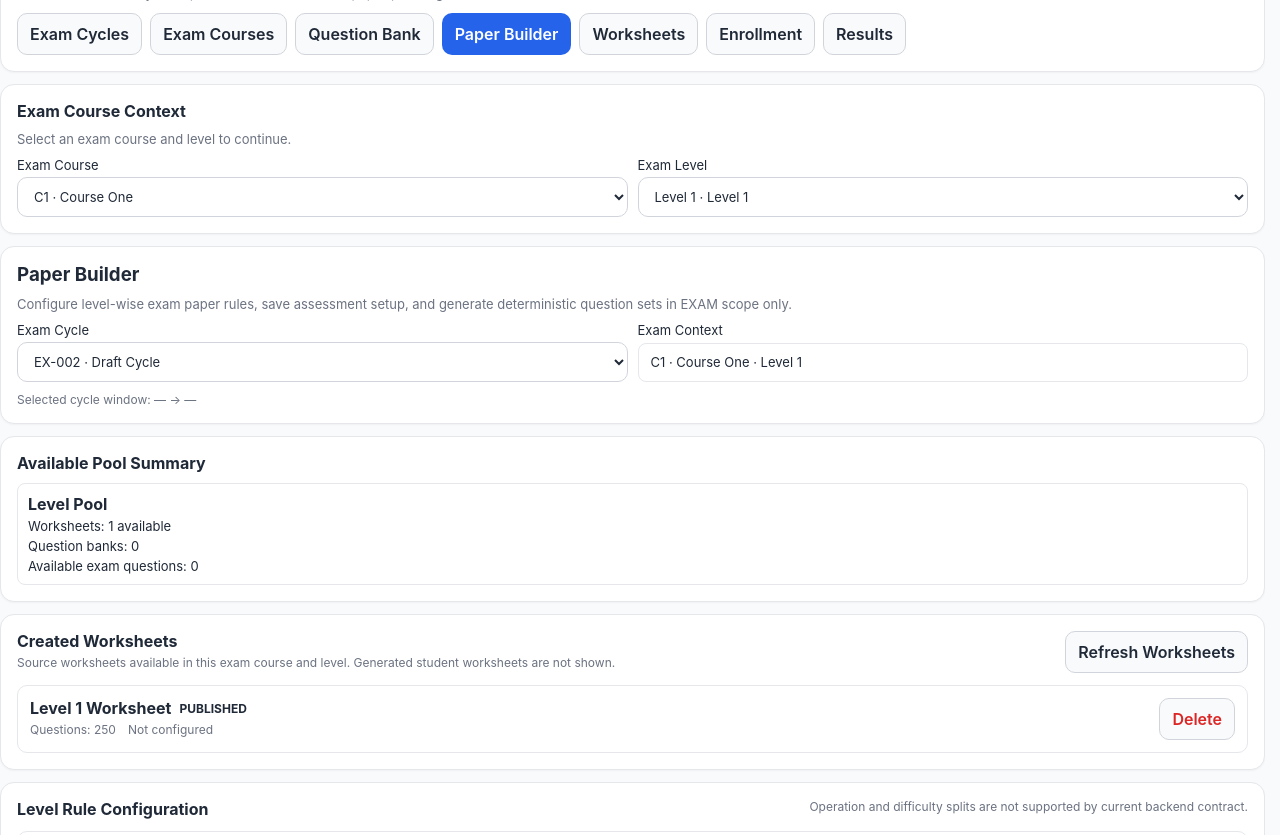
SuperadminExamCyclesPage › worksheet mode shows worksheet, question count, and time limit; selecting worksheet defaults values
Select "C1 · Course One" in the dropdown labelled "Exam Course" at (322, 197), box [17, 177, 628, 217]
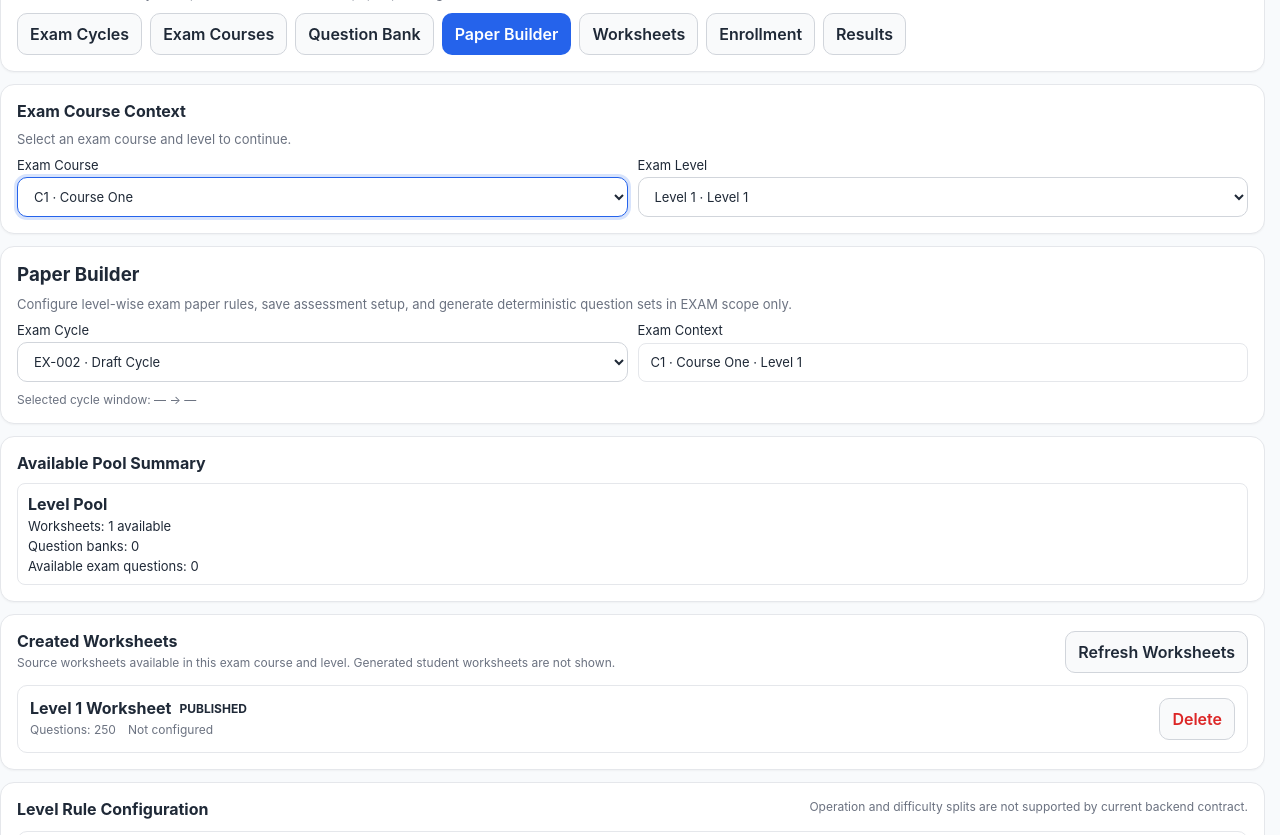
Select "Level 1 · Level 1" in the dropdown labelled "Exam Level" at (943, 197), box [638, 177, 1248, 217]
(page scrolled)
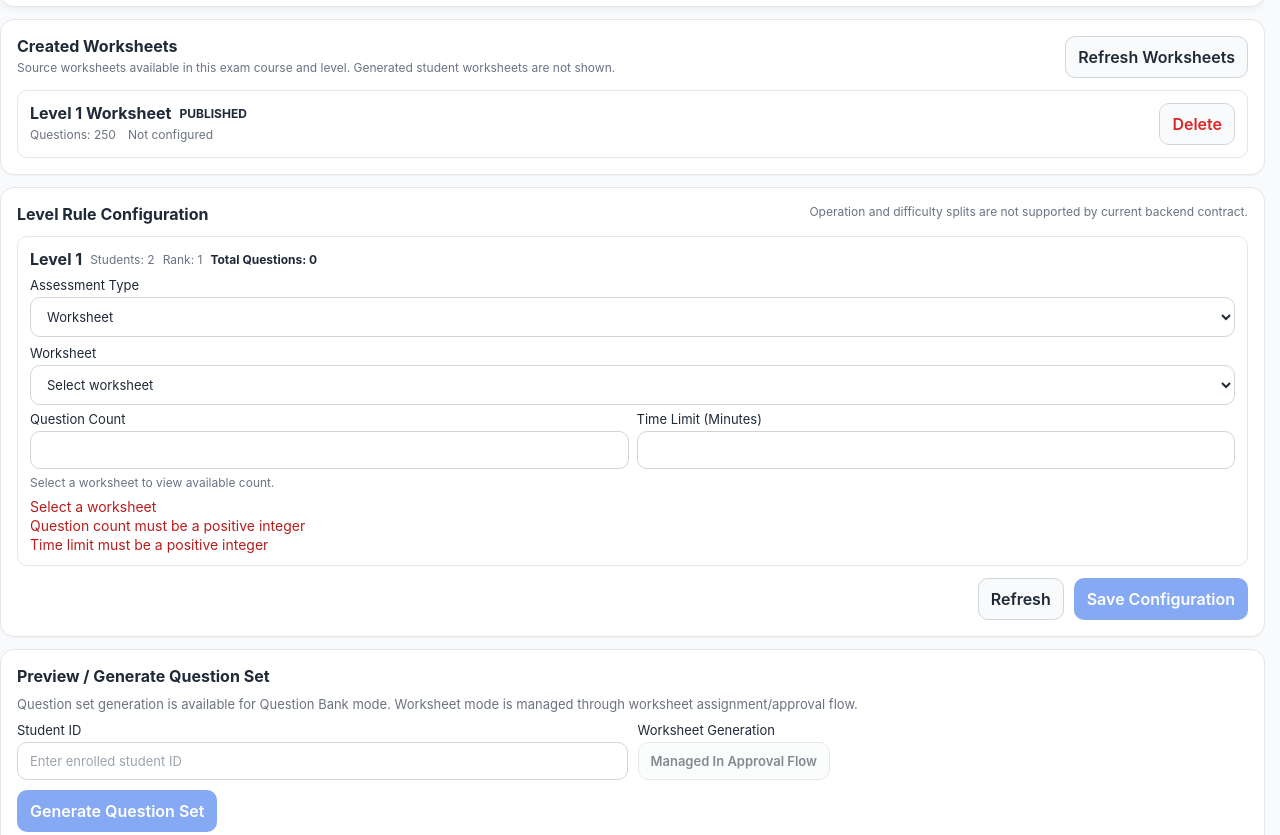
Select "Level 1 Worksheet (Q: 250, PUBLISHED)" in the dropdown labelled "Worksheet" at (632, 385), box [30, 365, 1235, 405]
(page scrolled)
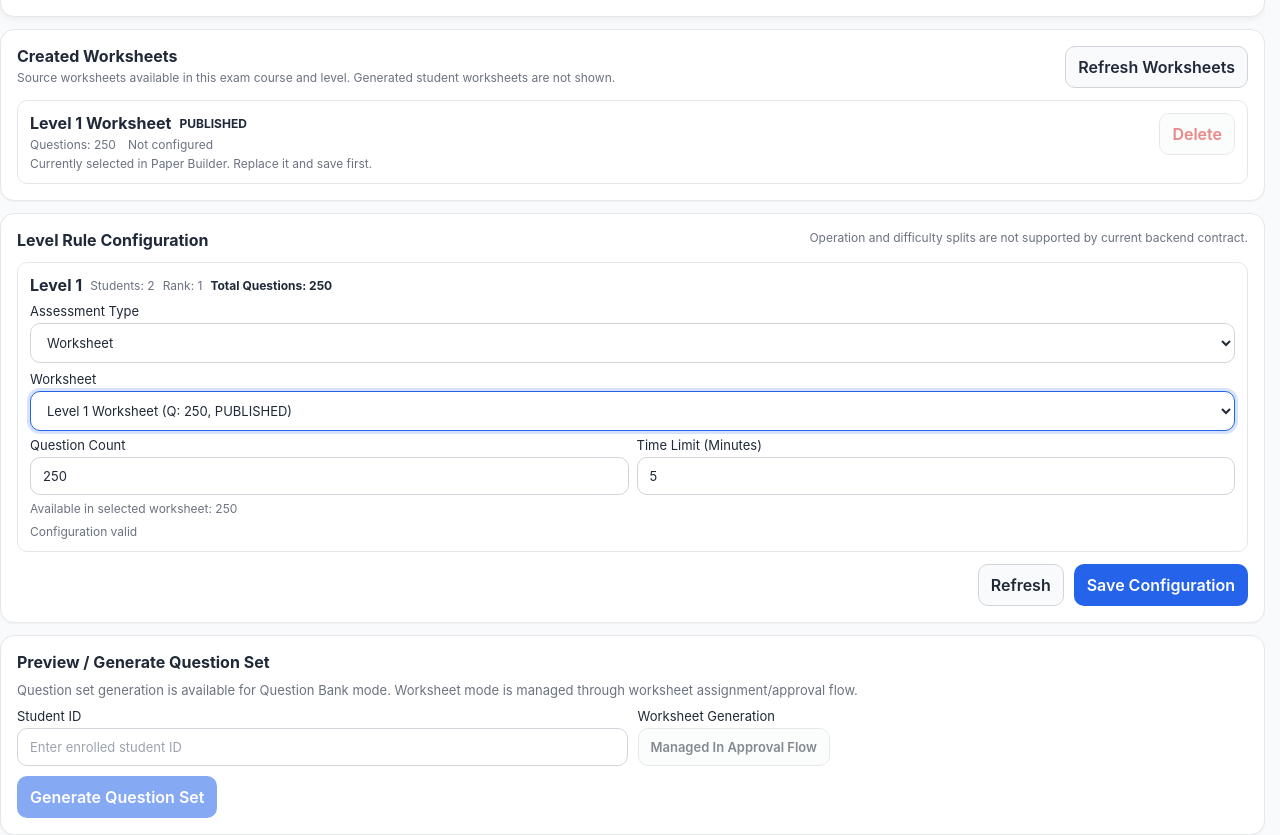
Result: the number field labelled "Question Count" holds "250" at [30, 457, 628, 495]
Result: the number field labelled "Time Limit (Minutes)" holds "5" at [636, 457, 1235, 495]
Result: the text "Available in selected worksheet: 250" is shown at [30, 501, 237, 516]
